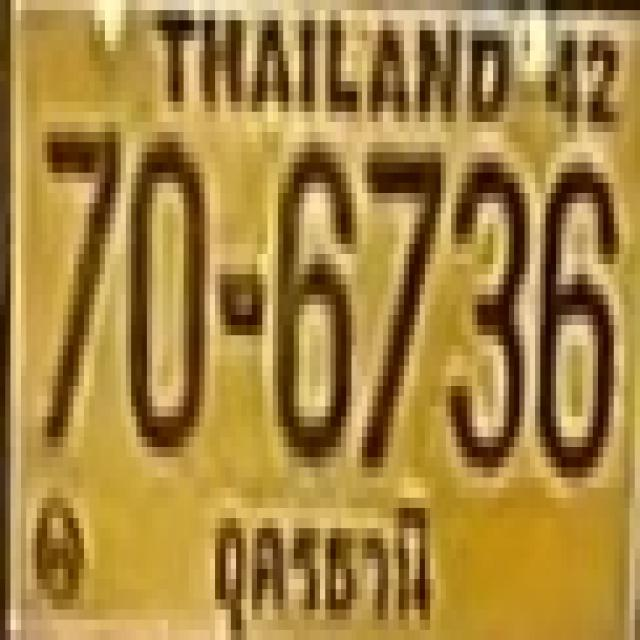0: (126, 132, 205, 458)
3: (446, 148, 531, 472)
6: (535, 152, 618, 482), (273, 132, 355, 466)
7: (359, 142, 438, 457), (42, 122, 115, 437)
UDN: (202, 492, 439, 640)
